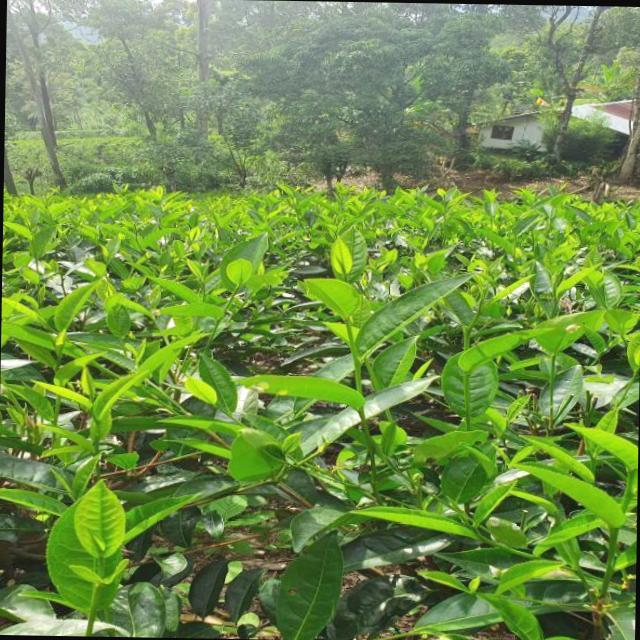Stem: (91, 583, 100, 593), (343, 319, 350, 329), (462, 326, 469, 335), (627, 469, 633, 477), (589, 456, 595, 463), (93, 419, 99, 424)
